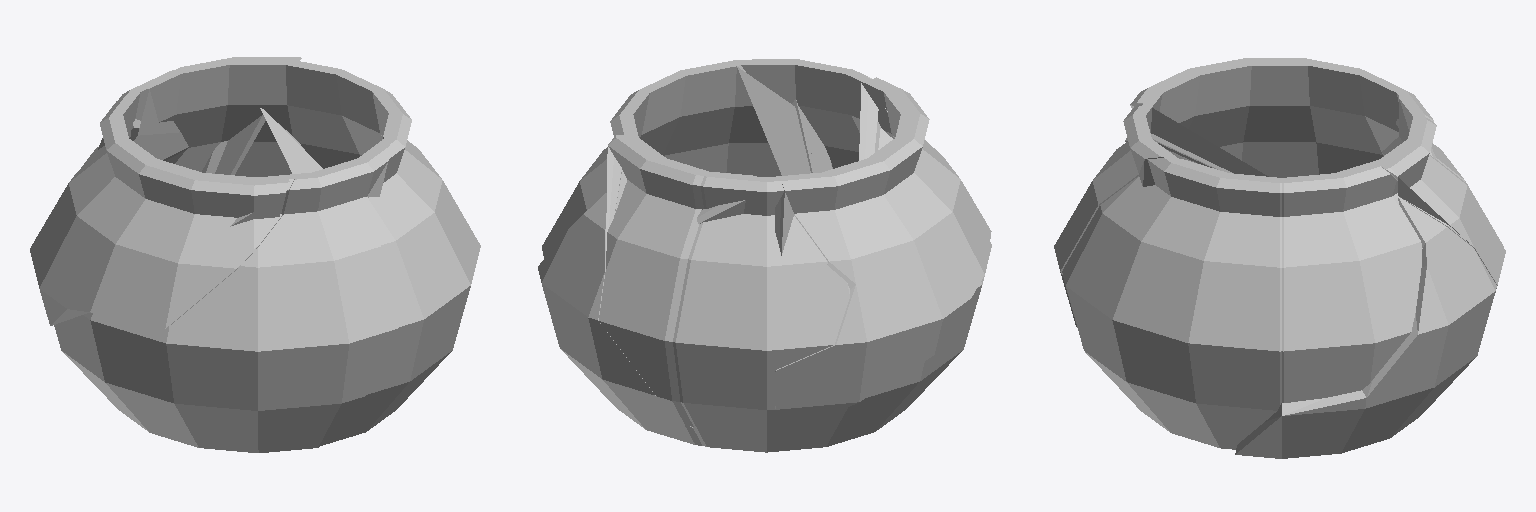
The model's file is Low_Poly_LOZ_Pot.obj.
The picture shows the model from 3 angles: view 1: azimuth 30°, elevation 25°; view 2: azimuth 150°, elevation 25°; view 3: azimuth 270°, elevation 25°; orthographic projection.
Visible parts, largest first — view 1: Pot_Base polySurface8, Pot_Base, Pot_Base polySurface3, Pot_Base polySurface2, Pot_Base polySurface7, Pot_Base polySurface6; view 2: Pot_Base, Pot_Base polySurface3, Pot_Base polySurface2, Pot_Base polySurface7, Pot_Base polySurface6, Pot_Base polySurface8; view 3: Pot_Base, Pot_Base polySurface7, Pot_Base polySurface6, Pot_Base polySurface2, Pot_Base polySurface8, Pot_Base polySurface3.
Part boxes in pixels (x1,y1,x2,y2): Pot_Base polySurface8: (57,139,397,452); Pot_Base: (54,60,480,446); Pot_Base polySurface3: (30,95,289,328); Pot_Base polySurface2: (130,57,301,163); Pot_Base polySurface7: (260,60,400,173); Pot_Base polySurface6: (202,115,265,174); Pot_Base: (627,60,980,452); Pot_Base polySurface3: (775,77,991,441); Pot_Base polySurface2: (599,135,761,426); Pot_Base polySurface7: (542,61,815,257); Pot_Base polySurface6: (538,193,701,445); Pot_Base polySurface8: (741,59,991,429); Pot_Base: (1062,62,1503,449); Pot_Base polySurface7: (1172,158,1422,402); Pot_Base polySurface6: (1235,197,1496,458); Pot_Base polySurface2: (1379,94,1505,292); Pot_Base polySurface8: (1054,106,1268,326); Pot_Base polySurface3: (1125,58,1395,141).
Size of the model in its own units: 4.62 by 3.05 by 4.62.